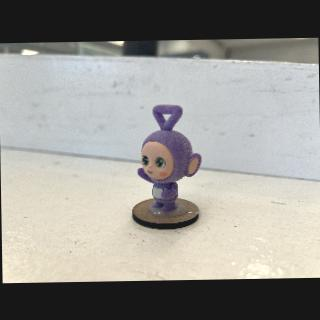teletubby: (137, 104, 201, 211)
